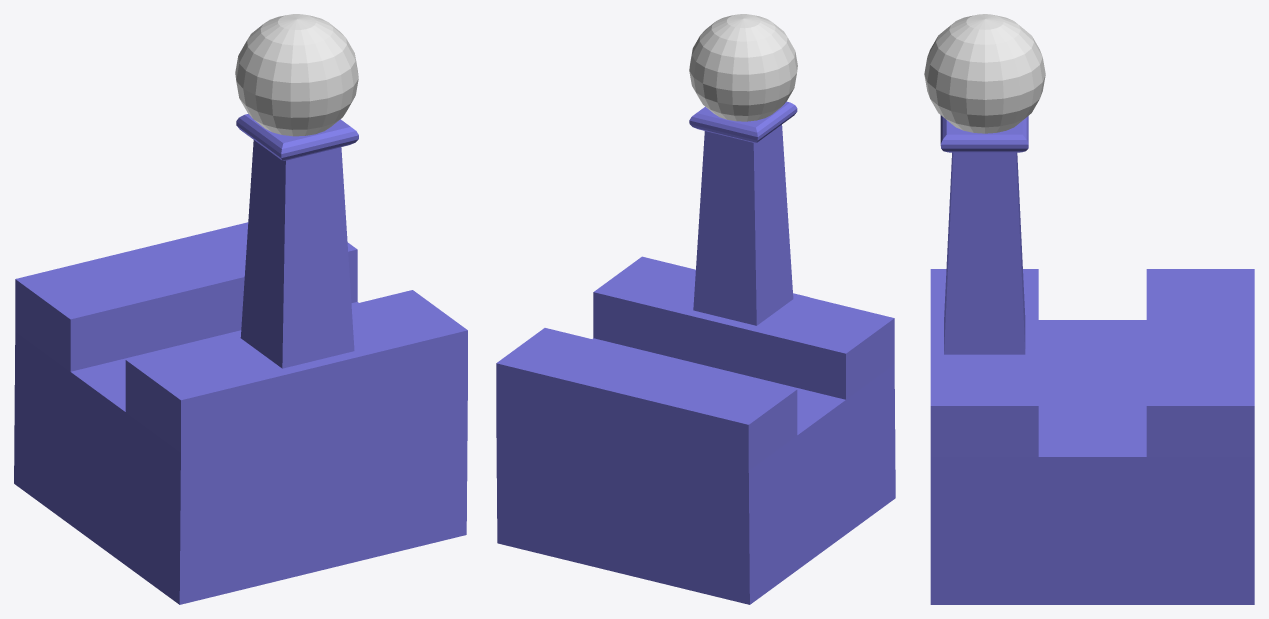
The model's file is StraightPowerBlock.fbx.
The picture shows the model from 3 angles, left to right: view 1: azimuth 30°, elevation 25°; view 2: azimuth 150°, elevation 25°; view 3: azimuth 270°, elevation 25°; orthographic projection. The views are drawn at different scales.
Parts seen in each view (by area): view 1: Cube.002, Cube.007, Sphere.002; view 2: Cube.002, Cube.007, Sphere.002; view 3: Cube.002, Cube.007, Sphere.002.
Boxes of the visible parts, <box> form: Cube.002: <box>14,222,467,604</box>; Cube.007: <box>222,114,372,376</box>; Sphere.002: <box>235,14,358,136</box>; Cube.002: <box>496,256,895,604</box>; Cube.007: <box>677,101,809,332</box>; Sphere.002: <box>689,14,797,121</box>; Cube.002: <box>930,269,1254,604</box>; Cube.007: <box>930,115,1038,360</box>; Sphere.002: <box>924,14,1045,133</box>.
Size of the model in its own units: 402 by 706 by 408.
